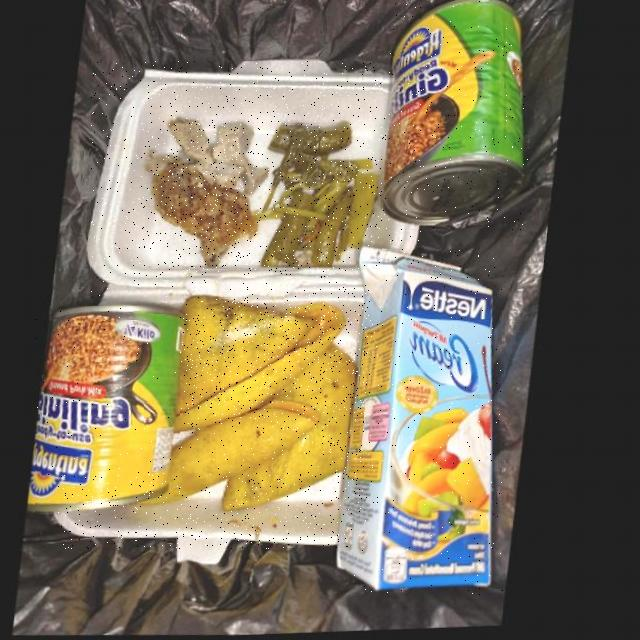biowaste: (231, 348, 364, 514), (181, 305, 352, 434), (144, 402, 328, 507), (255, 125, 382, 270), (183, 298, 323, 417), (154, 162, 263, 269), (147, 119, 273, 197)
metal: (383, 0, 528, 230), (35, 307, 192, 513)
paper: (347, 250, 503, 596)
styrofoam: (91, 62, 424, 300), (62, 474, 354, 549), (285, 287, 370, 367), (104, 287, 195, 310)
